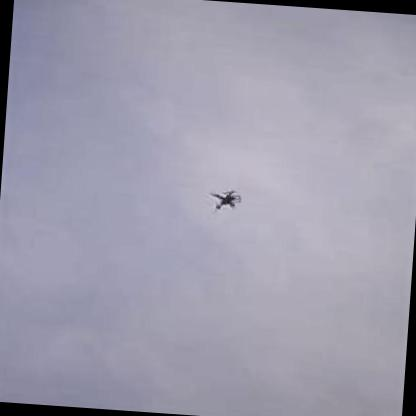drone: (204, 183, 248, 216)
